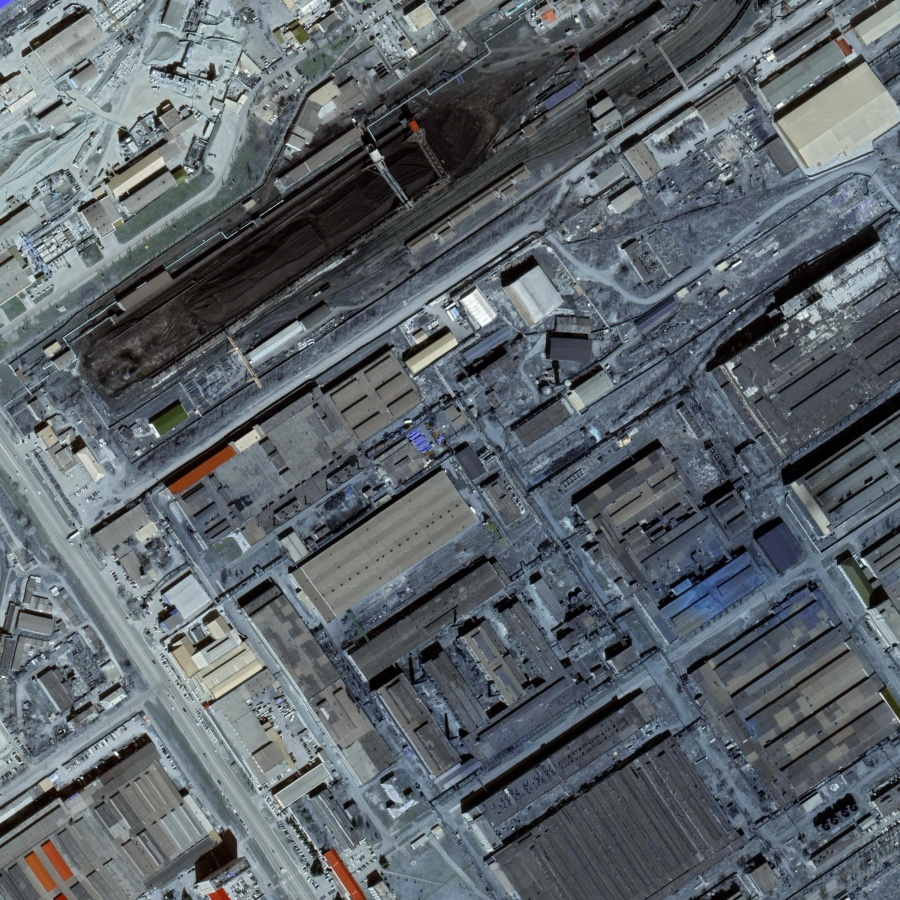PowerPlant: (56, 43, 528, 413)
